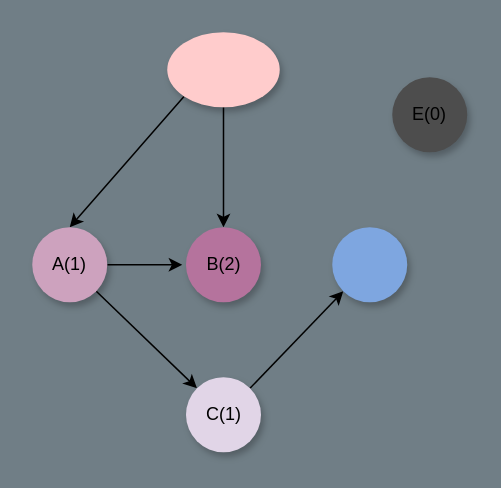
Some shapes in this 501 by 488 pixel diagram are drawn without their labels. Each missing label, with the centre of its shape:
"D(1)" goes at [371,266].
"roots" goes at [224,71].
